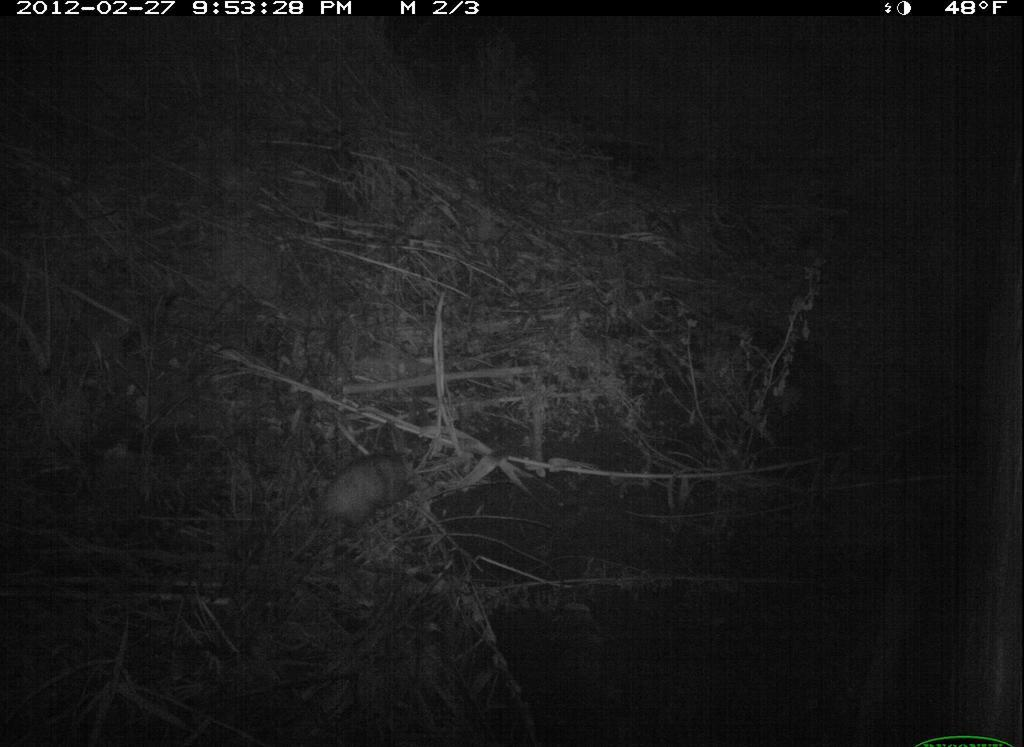opossum: (295, 433, 432, 564)
